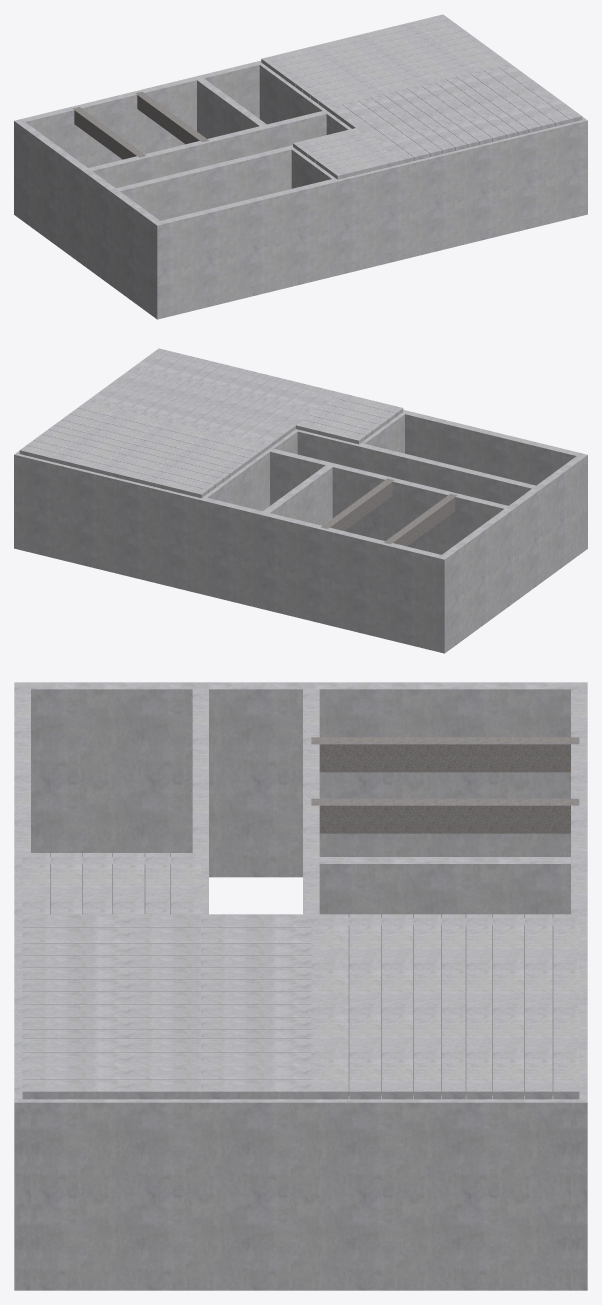
The model's file is two-way.glb.
3 views of the same model, one above another, from view 1: azimuth 30°, elevation 25°; view 2: azimuth 150°, elevation 25°; view 3: azimuth 270°, elevation 25° (orthographic). The views are drawn at different scales.
Visible parts, largest first — view 1: 墙体, 楼板, 横向梁; view 2: 墙体, 楼板, 横向梁; view 3: 墙体, 楼板, 横向梁.
Part boxes in pixels (x1=…): 墙体: x1=14, y1=60, x2=587, y2=319; 楼板: x1=261, y1=14, x2=582, y2=179; 横向梁: x1=72, y1=91, x2=208, y2=159; 墙体: x1=14, y1=410, x2=587, y2=653; 楼板: x1=19, y1=348, x2=403, y2=498; 横向梁: x1=321, y1=478, x2=456, y2=546; 墙体: x1=14, y1=682, x2=587, y2=1290; 楼板: x1=22, y1=853, x2=579, y2=1099; 横向梁: x1=311, y1=737, x2=579, y2=833.
Size of the model in its own units: 14.4 by 3.12 by 8.3.
Materials: 3 (3 with a texture image).
